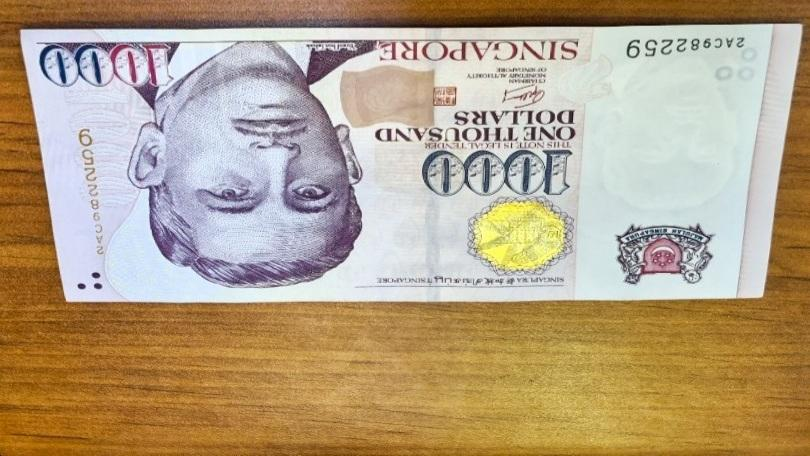1000SingaporeDollar: (40, 31, 776, 300)
